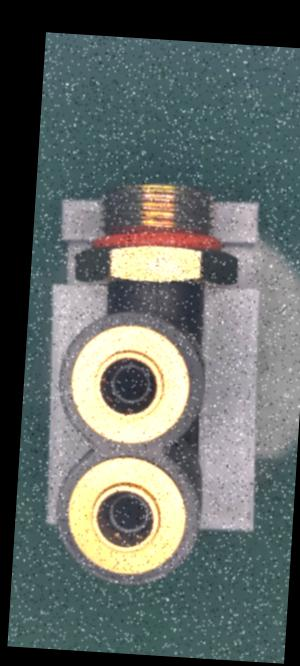joint line: (145, 289, 155, 312)
